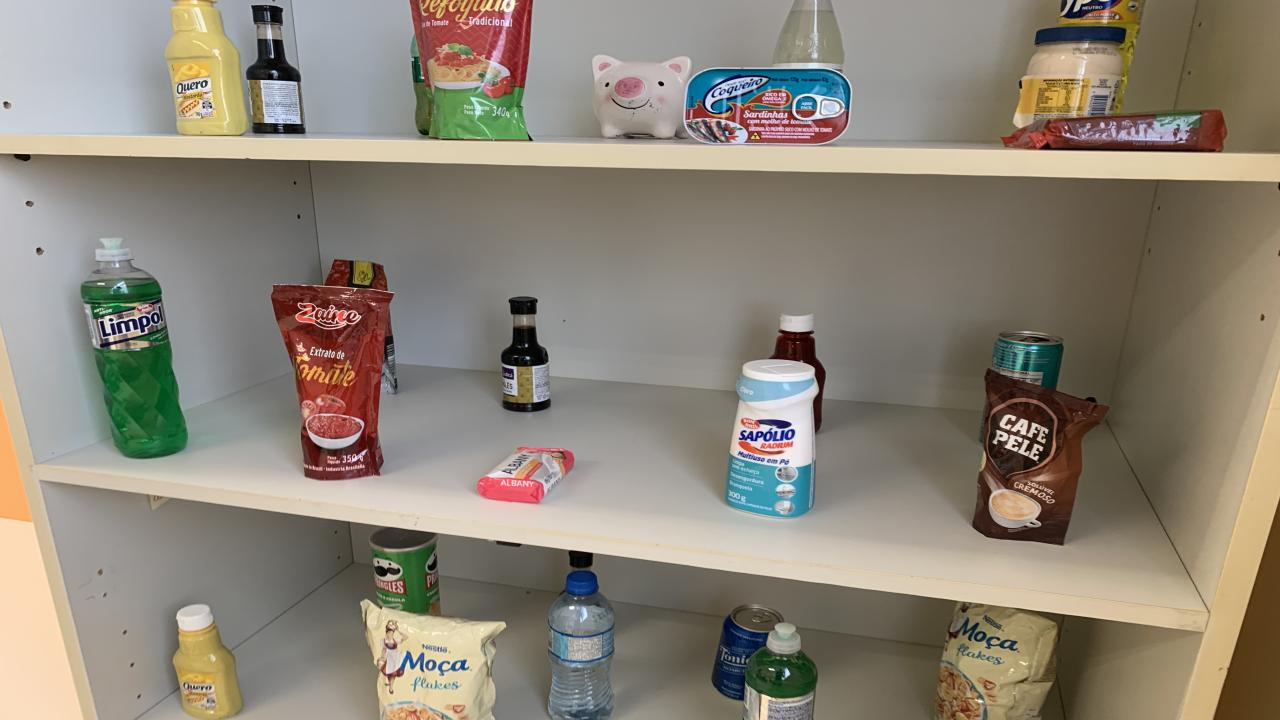Cleaner-Cleanup_Items: (725, 362, 820, 518)
Coffee-Pantry_Items: (972, 369, 1108, 544)
Detergent-Cleanup_Items: (80, 238, 188, 458), (1058, 0, 1145, 105), (742, 622, 818, 720)
English_Sauce-Pantry_Items: (245, 6, 305, 133), (500, 296, 550, 412), (568, 551, 592, 568)
Flakes-Snacks: (360, 600, 505, 720), (935, 604, 1060, 720)
Guarana-Drinks: (410, 38, 432, 135)
Guava-Snacks: (1002, 111, 1228, 152)
Ketchup-Pantry_Items: (770, 313, 825, 429)
Mayonnaise-Pantry_Items: (1012, 26, 1125, 128)
Mustard-Pantry_Items: (165, 0, 248, 135), (172, 604, 242, 718)
Pig_Safe-Miscellaneous: (592, 54, 690, 139)
Pringles-Snacks: (370, 527, 440, 615)
Soap-Cleanup_Items: (478, 448, 575, 502)
Soda-Drinks: (772, 0, 845, 71)
Tea-Drinks: (990, 332, 1062, 390)
Tomato_Sauce-Pantry_Items: (272, 285, 392, 480), (410, 0, 532, 141), (325, 259, 388, 291), (380, 319, 398, 394)
Tonic-Drinks: (712, 604, 782, 699)
Tuna_Can-Pantry_Items: (685, 68, 852, 144)
Water_Bottle-Drinks: (548, 570, 615, 718)
